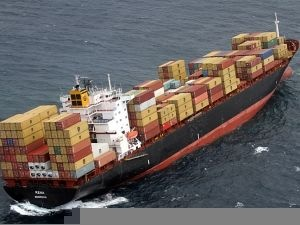Cargoship: (2, 17, 300, 209)
